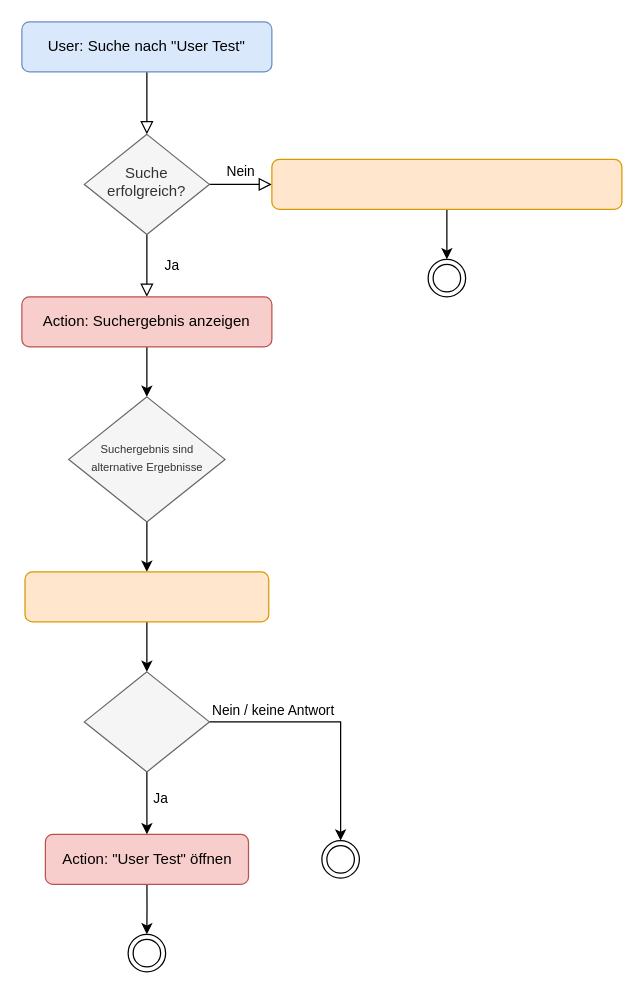
Some shapes in this 644 by 994 pixel diagram are drawn without their labels. Each missing label, with the box of its shape:
Assistent: "User Test" öffnen?: (24, 571, 269, 622)
Assistent: keine Ergebnisse zu "User Test": (271, 158, 622, 209)
User Bestätigung: (83, 671, 209, 772)
